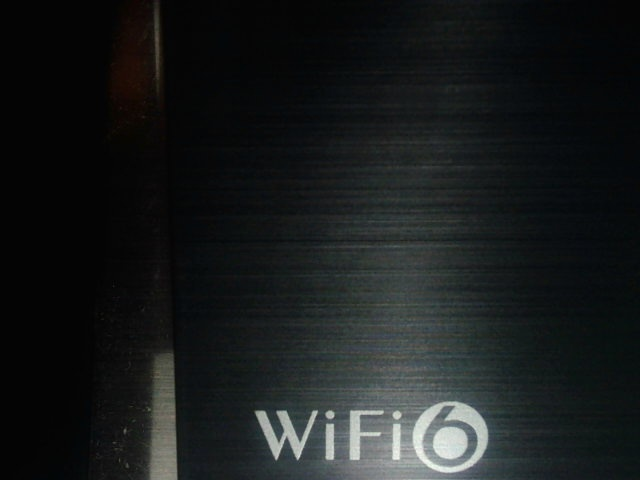AK_ZTEWIFI6Black: (246, 391, 500, 477)
